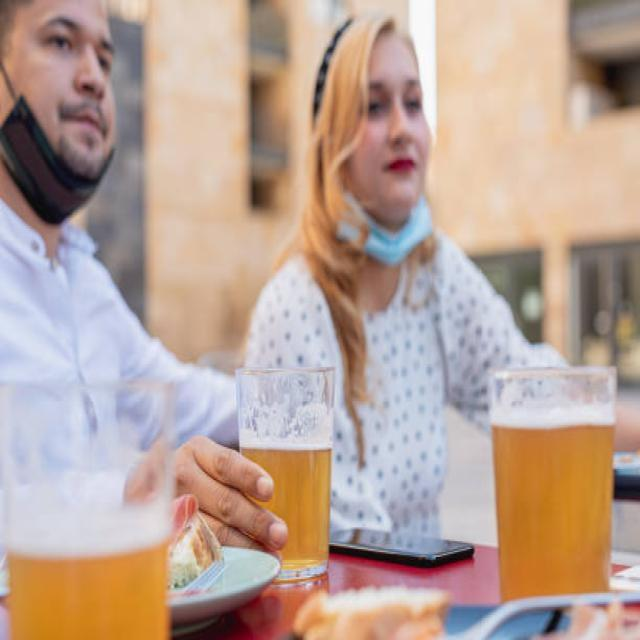hairnet: (0, 41, 111, 222), (333, 187, 433, 267)
